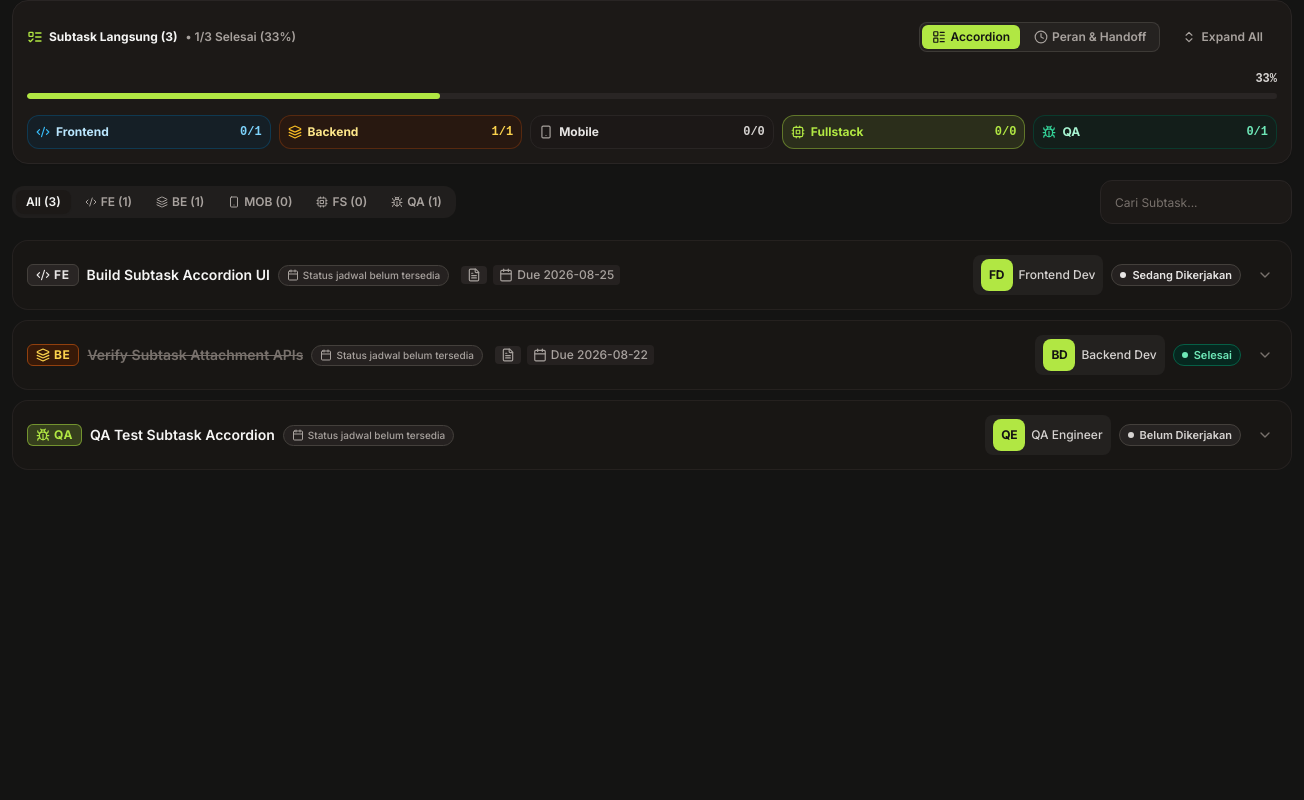
SubtaskList Organism Component › expands accordion item when clicking subtask row and reveals inner workspace
The image size is (1304, 800).
Click the button "Build Subtask Accordion UI": (53, 275) [13,241,1291,309]
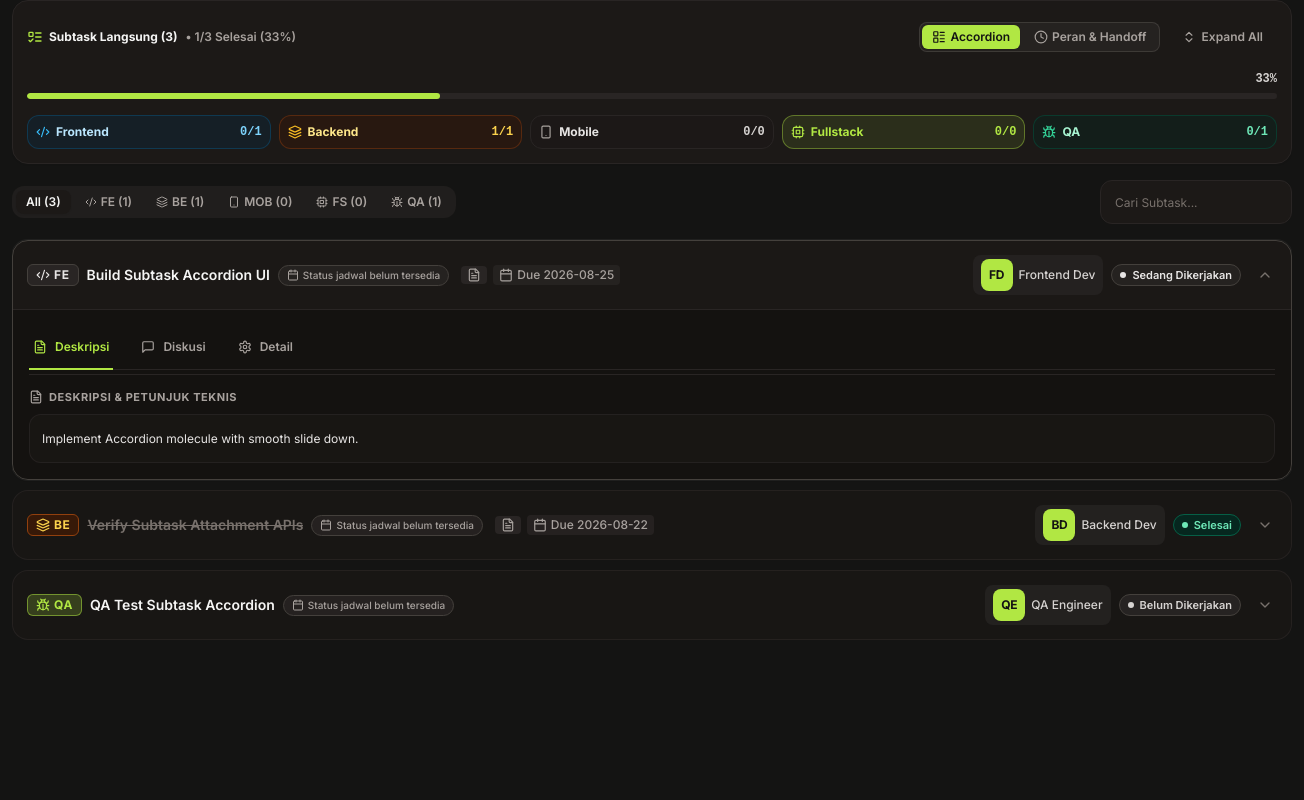
Expected: the button "Build Subtask Accordion UI" is expanded, [13,241,1291,309]
Expected: the tab "Deskripsi" is shown, [29,326,113,370]
Expected: the tab "Diskusi" is shown, [137,326,210,370]
